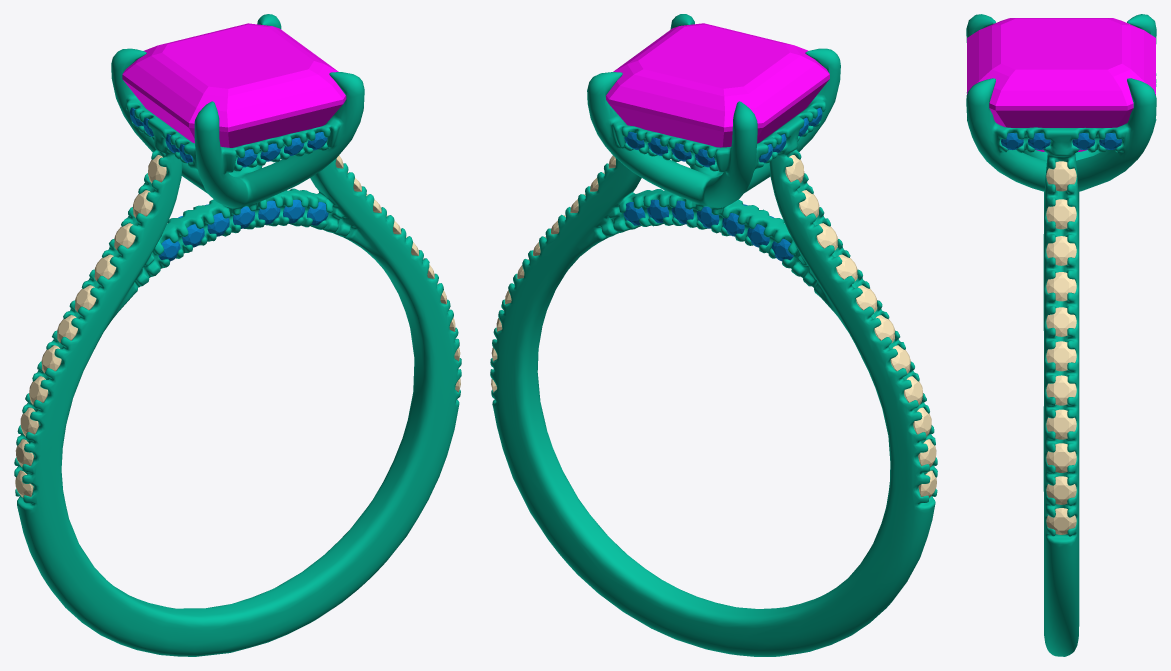
Rendered from BE1D9240_AS_200ct_RENDER.glb.
The picture shows the model from 3 angles, left to right: view 1: azimuth 30°, elevation 25°; view 2: azimuth 150°, elevation 25°; view 3: azimuth 270°, elevation 25°; orthographic projection.
Visible parts, largest first — view 1: Metal 01, CS_Diamond_Asscher; view 2: Metal 01, CS_Diamond_Asscher; view 3: Metal 01, CS_Diamond_Asscher, Diamond_Round_Gem_SH, Diamond_Round_Gem_SH.001, Diamond_Round_Gem_SH.006, Diamond_Round_Gem_SH.002, Diamond_Round_Gem_SH.007, Diamond_Round_Gem_SH.005, Diamond_Round_Gem_SH.003, Diamond_Round_Gem_SH.004, Diamond_Round_Gem_SH.008, Diamond_Round_Gem_SH.009 (+1 smaller).
Part boxes in pixels (x1,y1,x2,y2): Metal 01: [14, 14, 461, 656]; CS_Diamond_Asscher: [122, 23, 346, 147]; Metal 01: [490, 14, 937, 656]; CS_Diamond_Asscher: [605, 23, 829, 147]; Metal 01: [966, 14, 1156, 656]; CS_Diamond_Asscher: [967, 18, 1155, 151]; Diamond_Round_Gem_SH: [1046, 161, 1076, 191]; Diamond_Round_Gem_SH.001: [1046, 199, 1076, 229]; Diamond_Round_Gem_SH.006: [1046, 375, 1076, 405]; Diamond_Round_Gem_SH.002: [1046, 236, 1076, 265]; Diamond_Round_Gem_SH.007: [1046, 409, 1076, 439]; Diamond_Round_Gem_SH.005: [1046, 341, 1076, 371]; Diamond_Round_Gem_SH.003: [1046, 272, 1076, 301]; Diamond_Round_Gem_SH.004: [1046, 307, 1076, 336]; Diamond_Round_Gem_SH.008: [1046, 443, 1076, 472]; Diamond_Round_Gem_SH.009: [1046, 476, 1076, 504].
Bounding box in the file's own units: 19.98 × 25.73 × 7.56.
